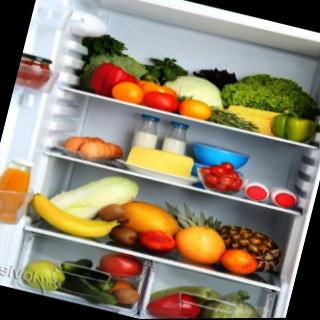Milk: (56, 127, 124, 167), (128, 112, 164, 150), (160, 118, 193, 156), (266, 179, 302, 213), (240, 175, 277, 206)
